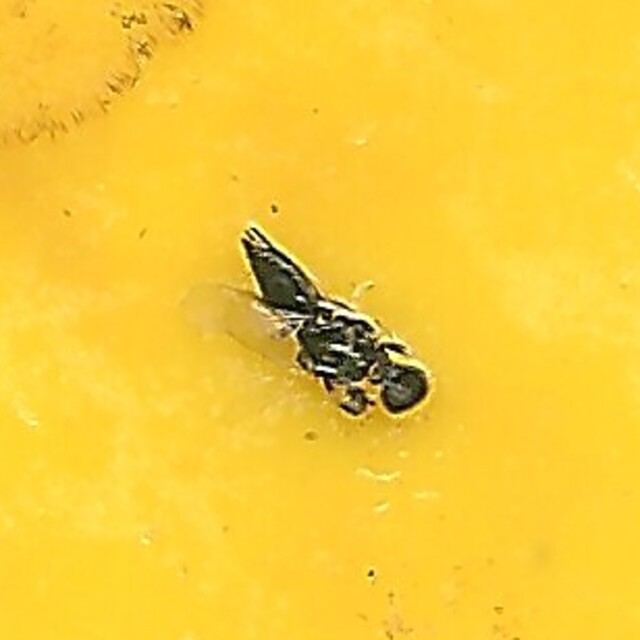Hymenoptera: (208, 219, 432, 421)
